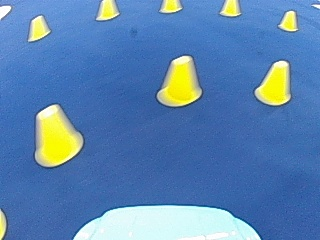cone: (32, 103, 81, 167), (158, 54, 203, 106), (254, 59, 292, 105), (27, 14, 50, 41), (95, 0, 119, 20), (277, 9, 298, 31), (219, 0, 240, 16), (159, 0, 181, 13)
